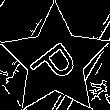P_NE: (26, 31, 85, 90)
